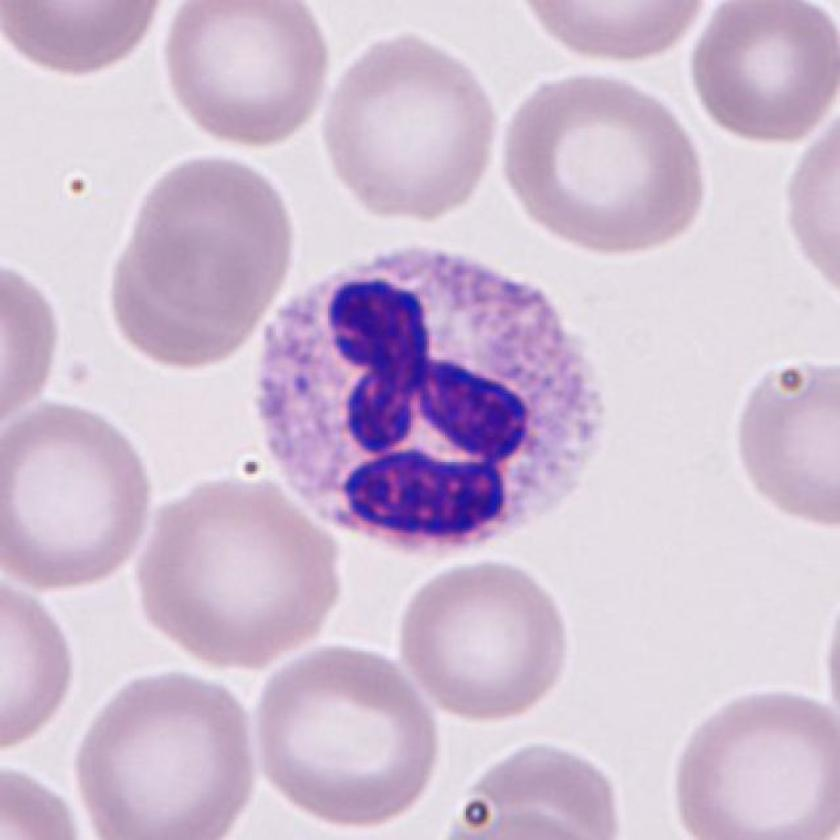neutrophil: (260, 240, 608, 561)
